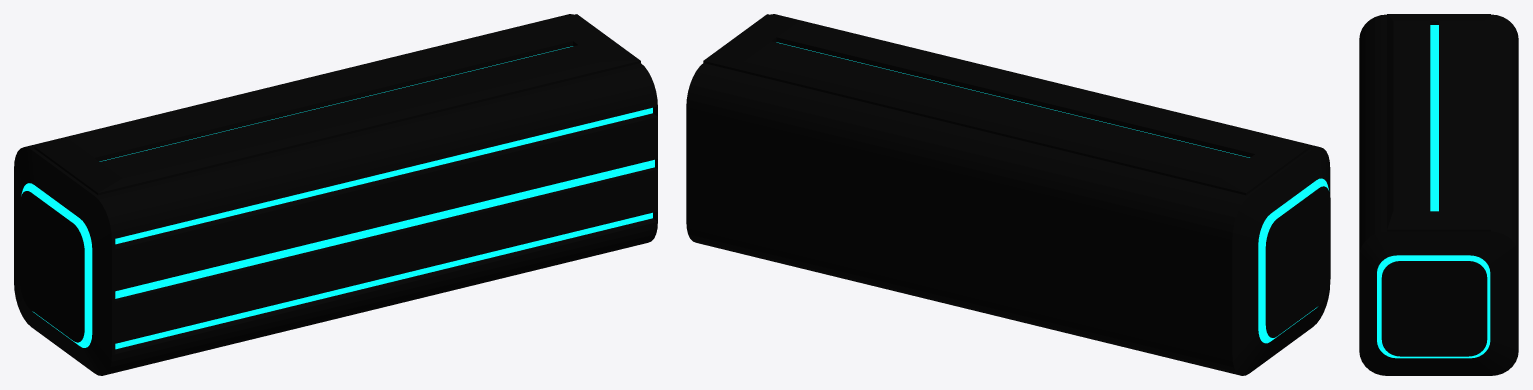
The model's file is Paddle.glb.
The picture shows the model from 3 angles, left to right: view 1: azimuth 30°, elevation 25°; view 2: azimuth 150°, elevation 25°; view 3: azimuth 270°, elevation 25°; orthographic projection. The views are drawn at different scales.
Parts seen in each view (by area): view 1: Paddle; view 2: Paddle; view 3: Paddle.
Part boxes in pixels (<box>): Paddle: <box>14,14,657,375</box>; Paddle: <box>686,14,1330,375</box>; Paddle: <box>1359,14,1518,375</box>.
Bounding box in the file's own units: 6.76 × 2.08 × 2.
